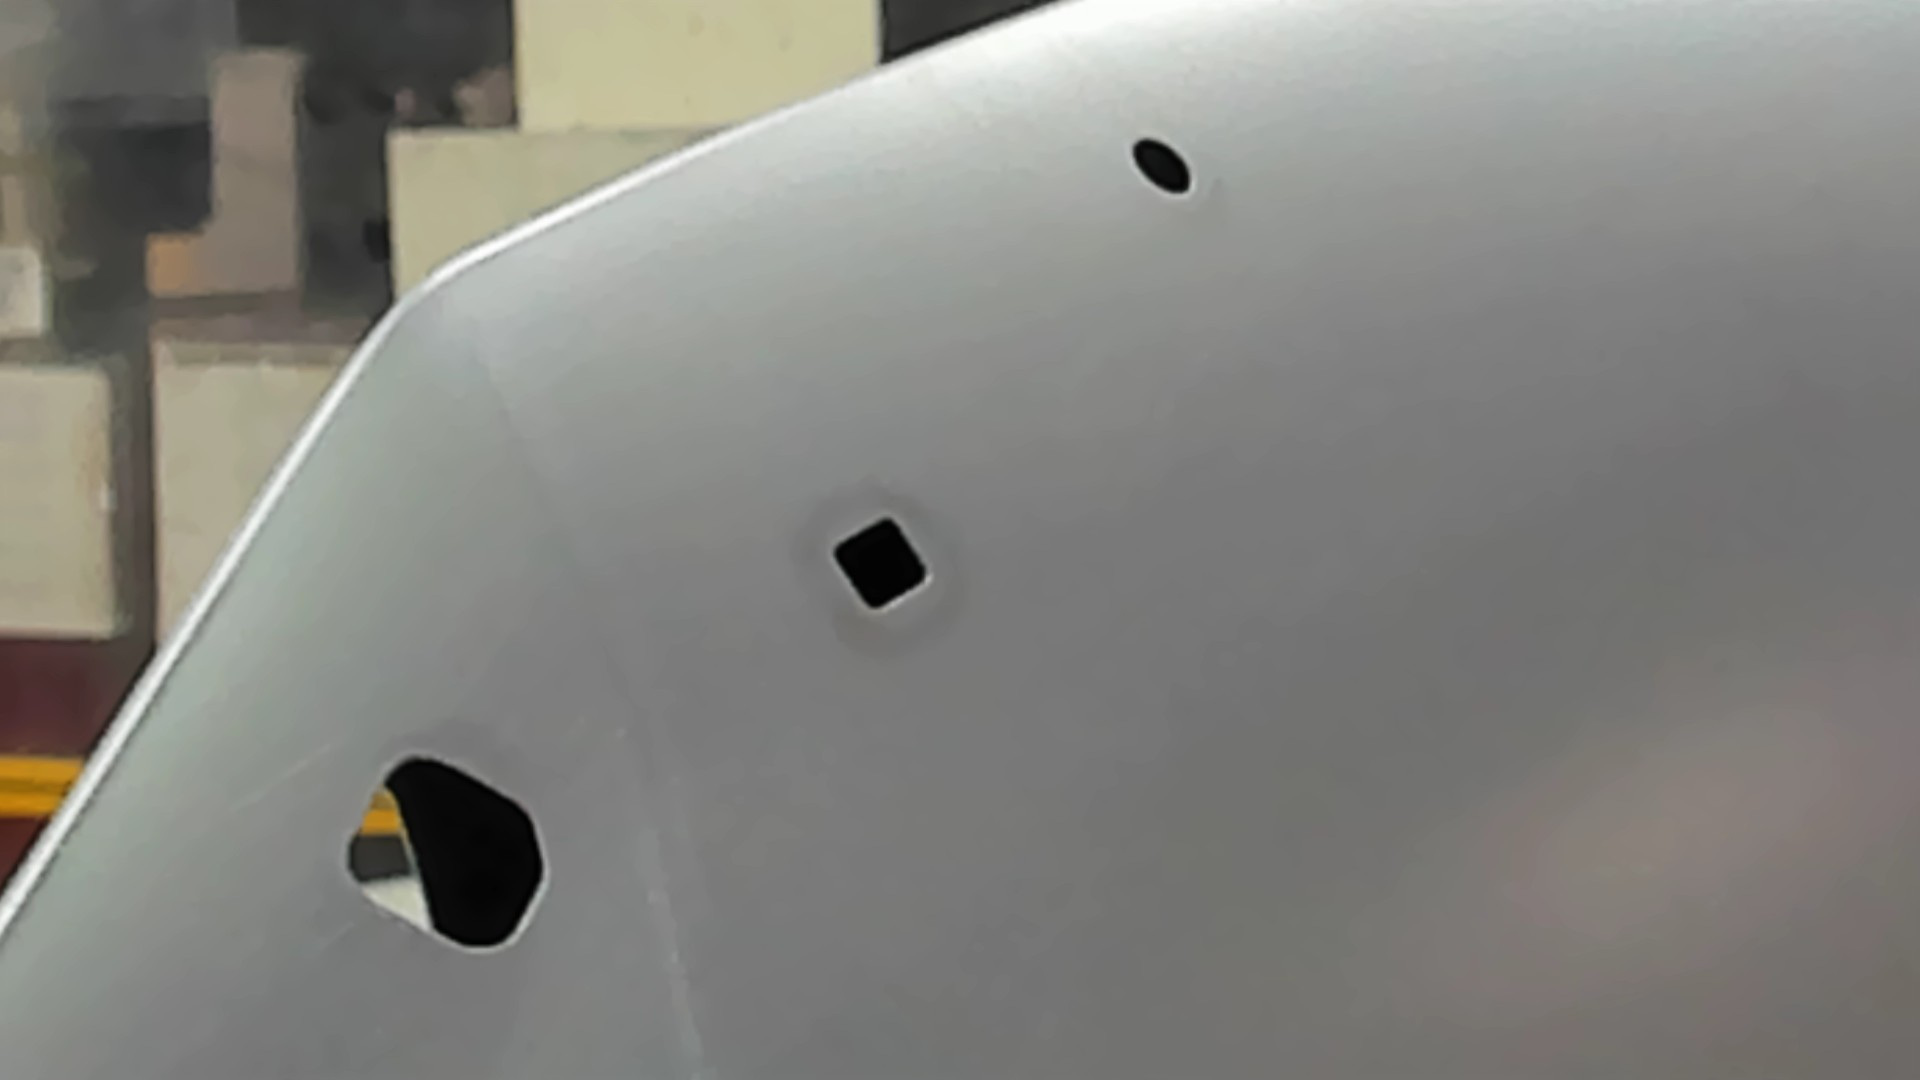chico: (1127, 132, 1196, 199)
grande: (334, 750, 550, 957)
mediano: (825, 512, 934, 618)
